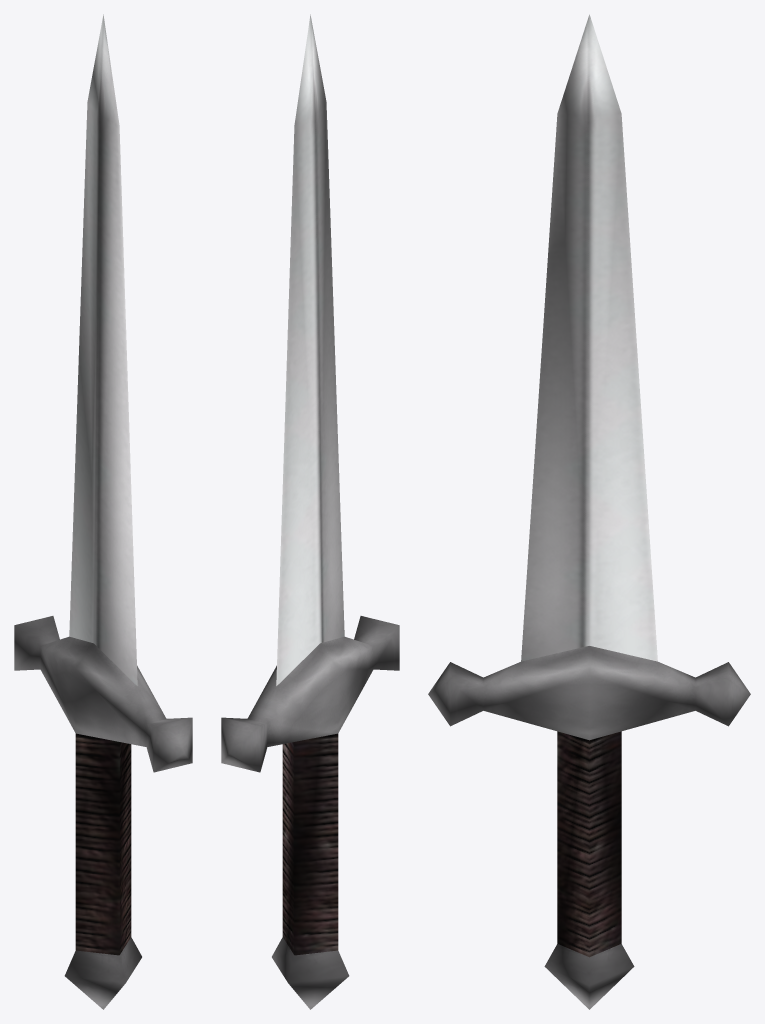
File: MedievalDagger.fbx
The picture shows the model from 3 angles, left to right: view 1: azimuth 30°, elevation 25°; view 2: azimuth 150°, elevation 25°; view 3: azimuth 270°, elevation 25°; orthographic projection.
Parts seen in each view (by area): view 1: MedievalDagger; view 2: MedievalDagger; view 3: MedievalDagger.
Part boxes in pixels (x1,y1,x2,y2): MedievalDagger: (14,14,192,1009); MedievalDagger: (221,14,399,1009); MedievalDagger: (428,14,750,1009).
Bounding box in the file's own units: 0.0475 × 0.5808 × 0.1707.
